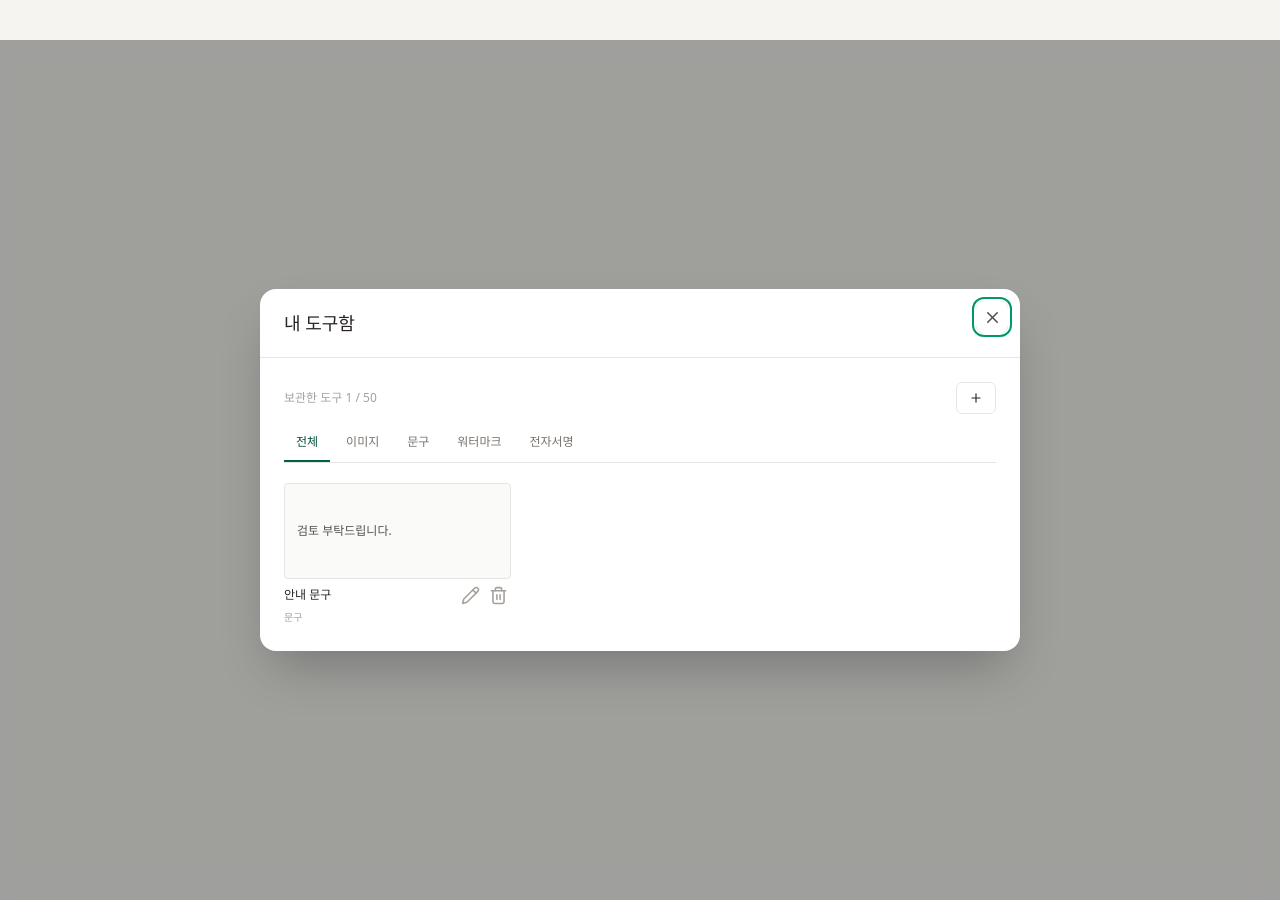
it: keeps the edit draft on save failure and discards changes on cancel
This screenshot has width=1280, height=900.
Click the button named "안내 문구 수정": (471, 595) left=459, top=583, right=483, bottom=607
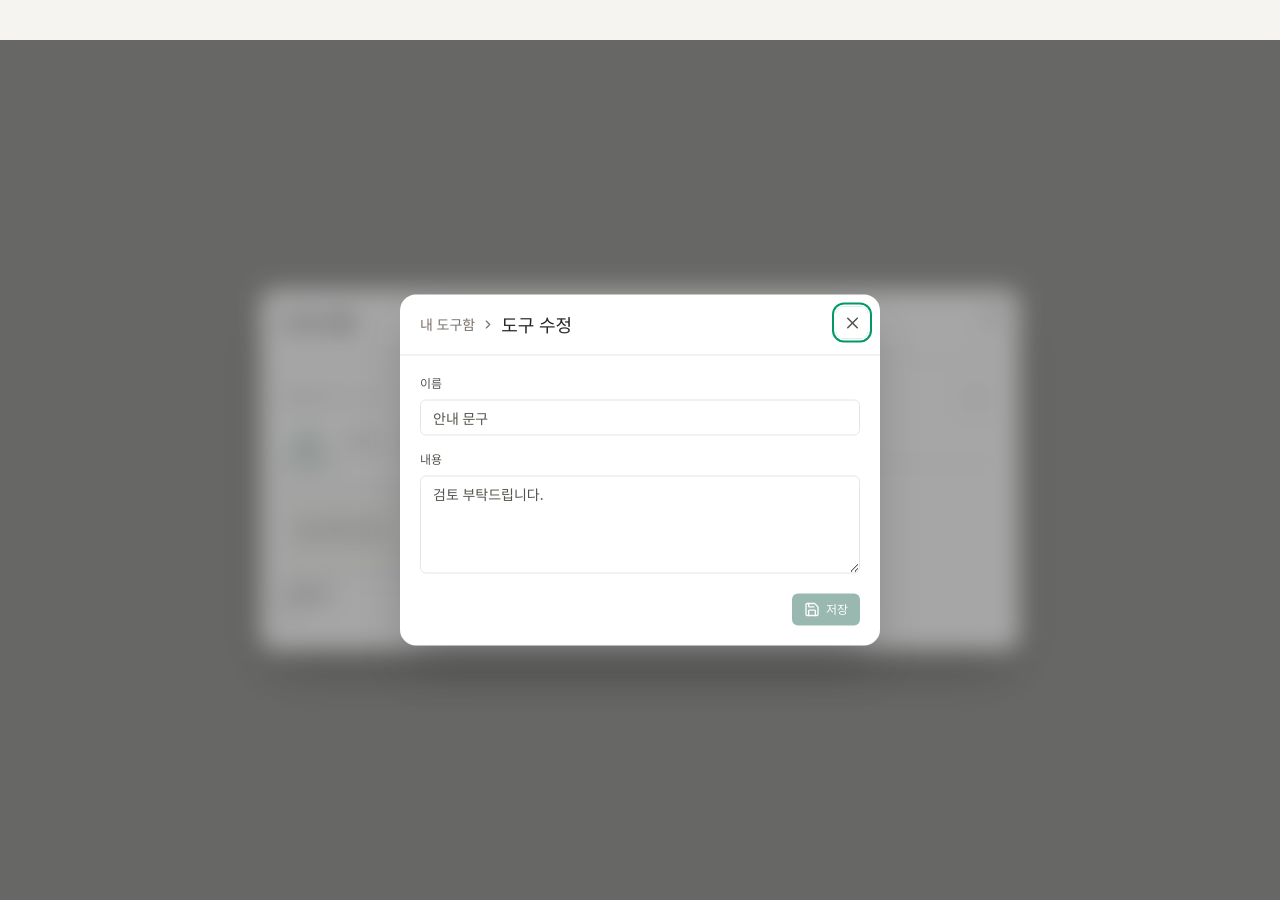
Replace the text in the text box labelled "내용" with "보관할 수정 내용": (640, 524) left=420, top=476, right=860, bottom=574
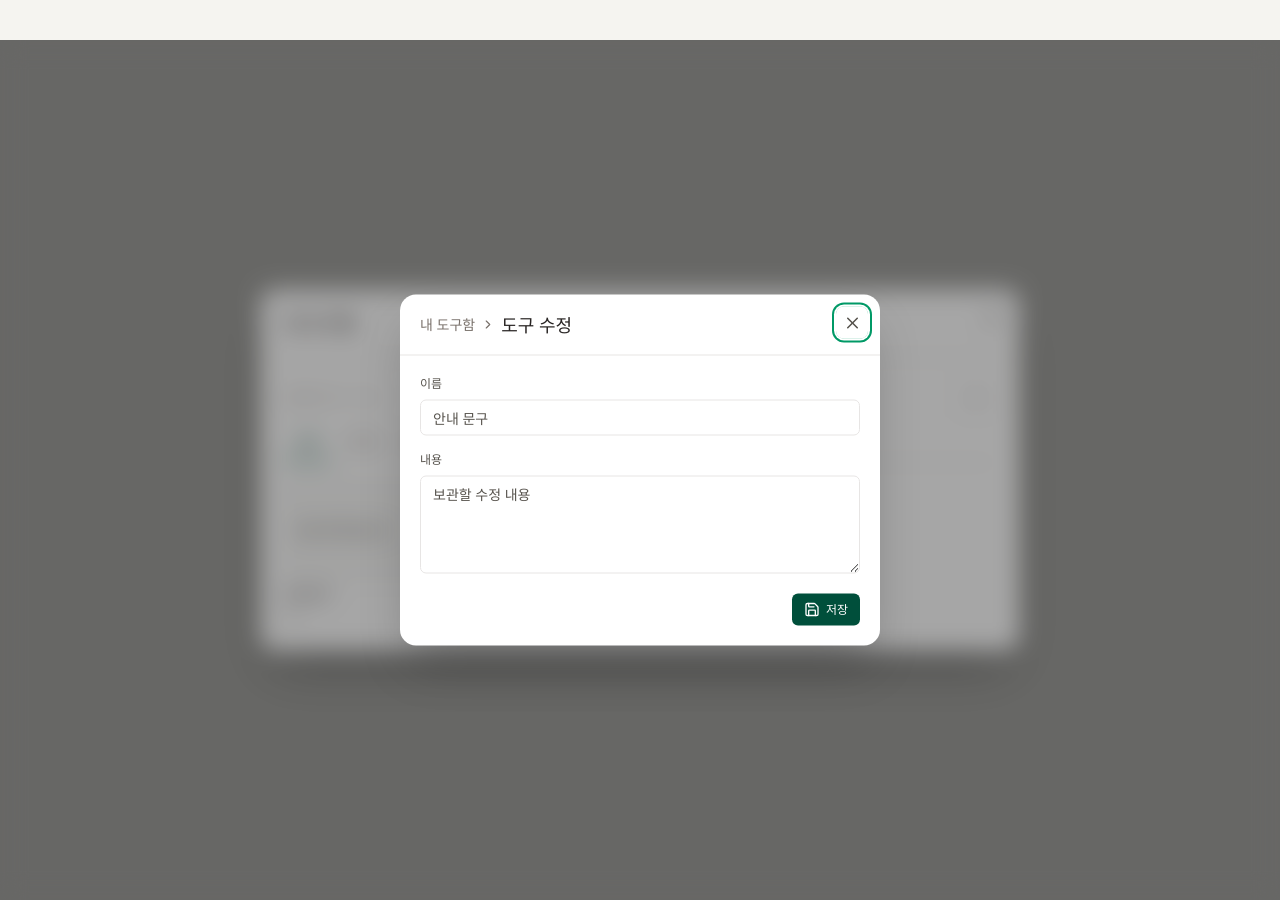
Click the button "저장": (826, 610) left=792, top=594, right=860, bottom=626
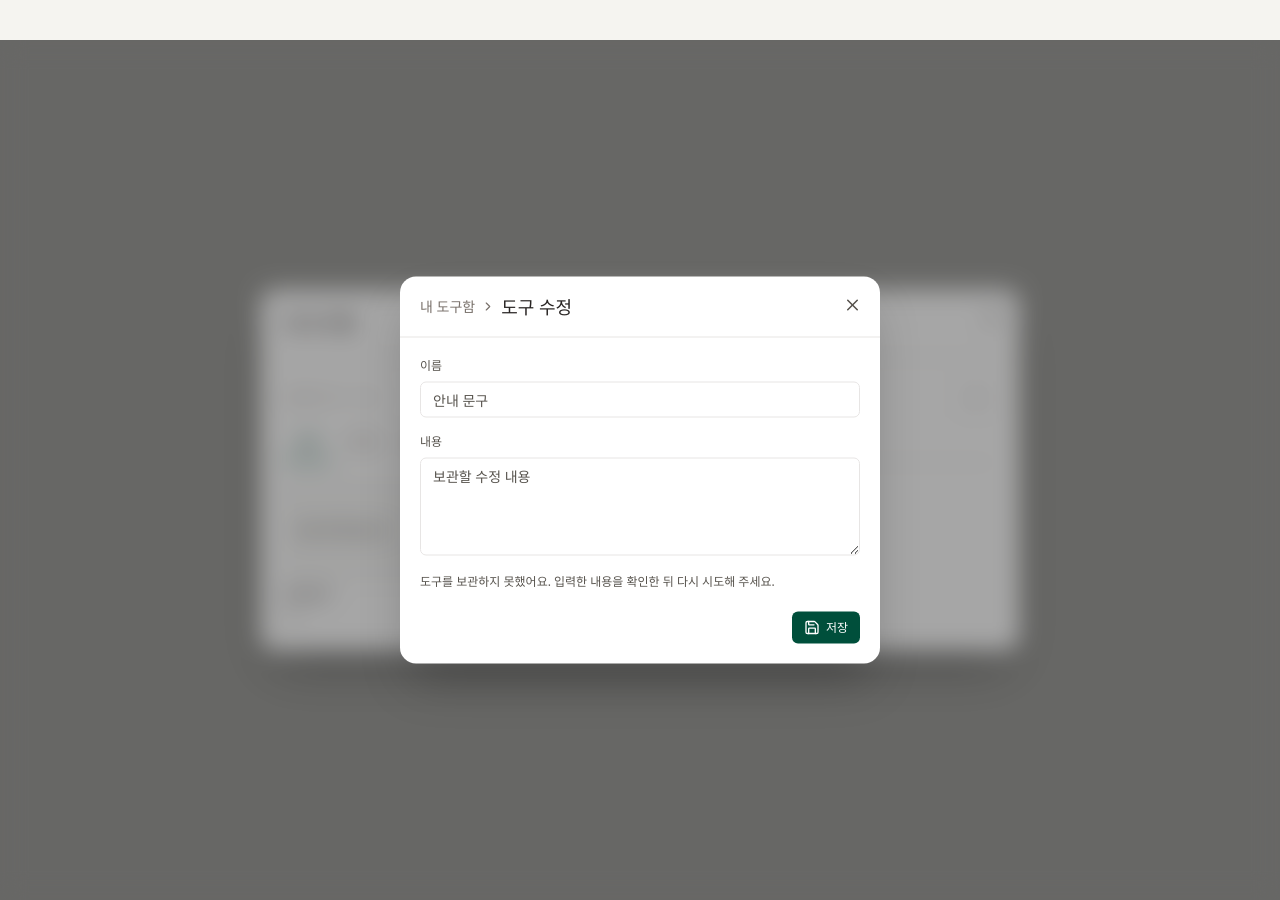
Click the button named "취소": (852, 304) left=836, top=288, right=868, bottom=320
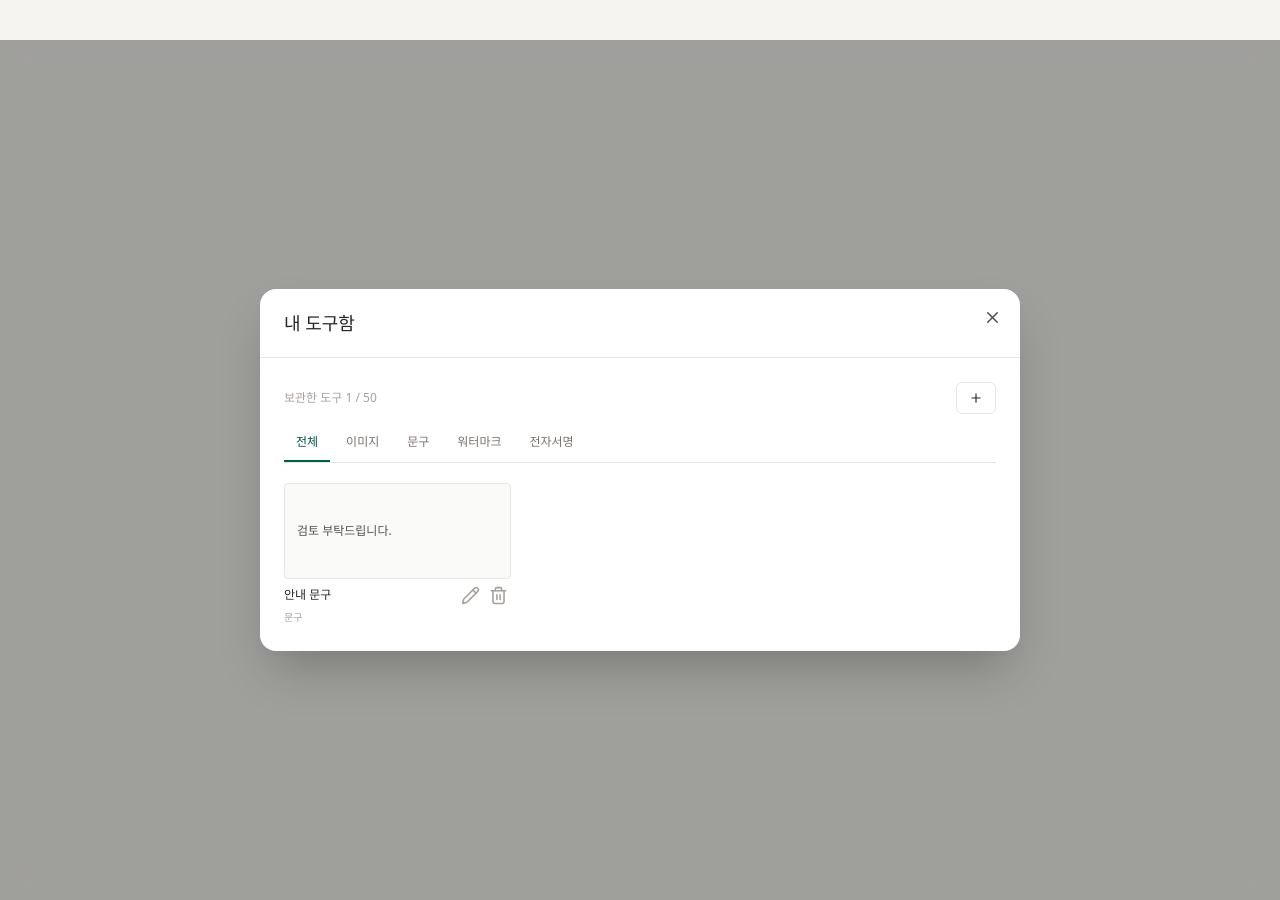
Check: the heading "도구 수정" is gone
Click the button named "안내 문구 수정": (471, 595) left=459, top=583, right=483, bottom=607
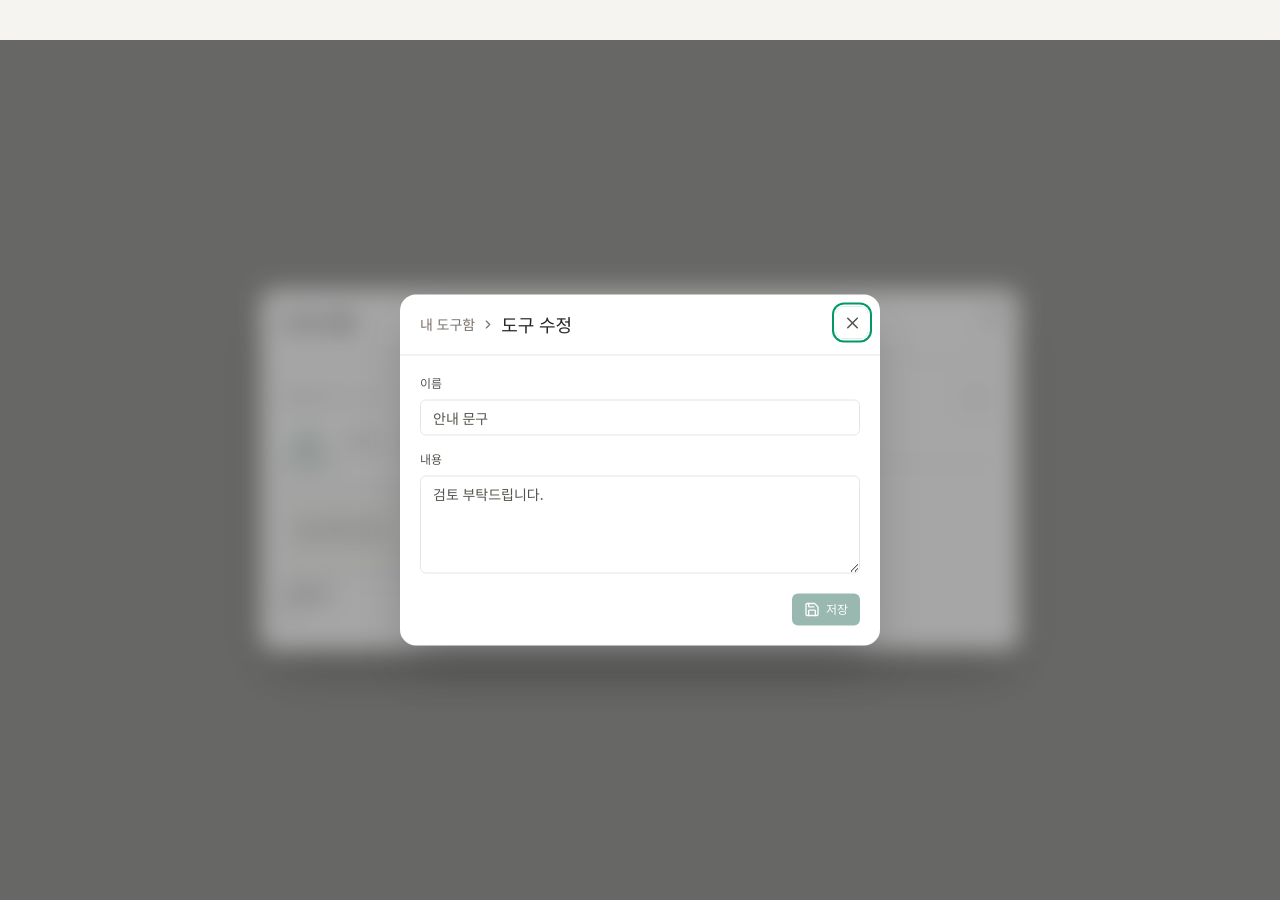
Check: the text box labelled "내용" holds "검토 부탁드립니다.", box left=420, top=476, right=860, bottom=574
